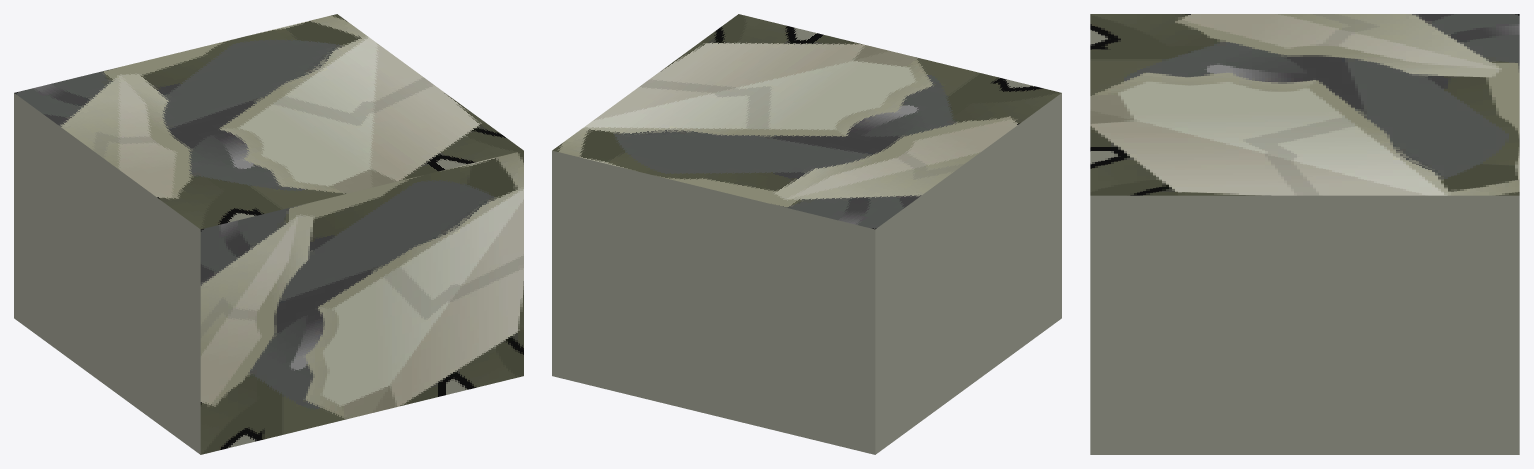
File: Building_MechRelay_Crashed.glb
3 renders of one model, left to right at view 1: azimuth 30°, elevation 25°; view 2: azimuth 150°, elevation 25°; view 3: azimuth 270°, elevation 25°, orthographic. The views are drawn at different scales.
Parts seen in each view (by area): view 1: MechRelay_Crashed; view 2: MechRelay_Crashed; view 3: MechRelay_Crashed.
Part boxes in pixels (x1,y1,x2,y2): MechRelay_Crashed: (14,14,523,454); MechRelay_Crashed: (552,14,1061,454); MechRelay_Crashed: (1090,14,1519,454).
Size of the model in its own units: 1.8 by 1.2 by 1.8.
1 material, 1 textured.
